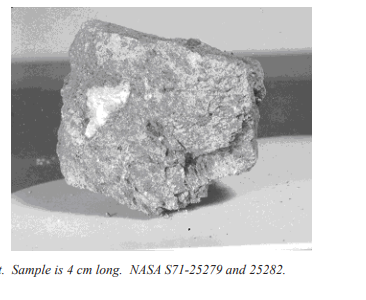Breccia: (41, 13, 258, 213)
